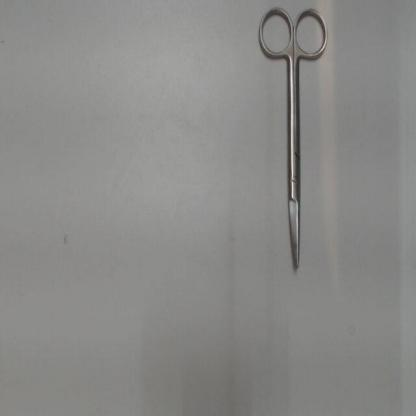Curved Mayo Scissors: (253, 3, 335, 276)
